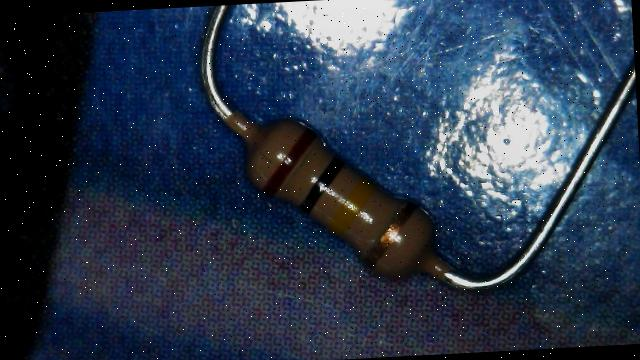black: (296, 154, 346, 213)
brown: (255, 128, 318, 197)
gold: (354, 201, 420, 271)
resistor: (210, 83, 498, 336)
yellow: (323, 179, 375, 237)
